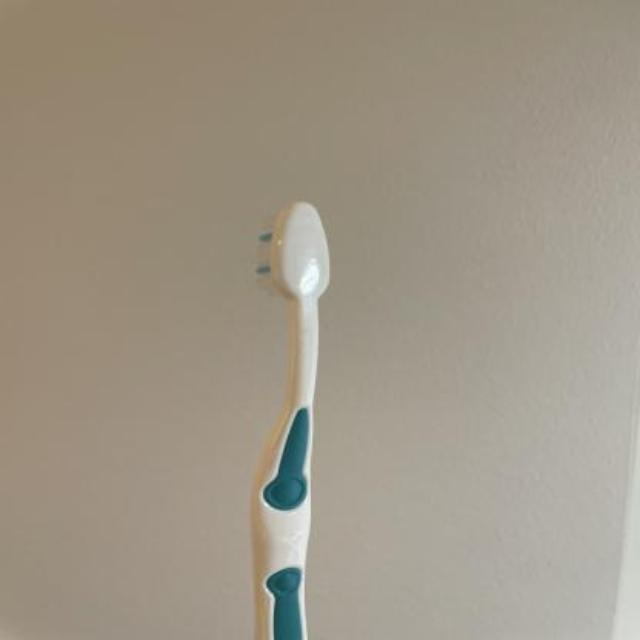toothbrush: (240, 192, 348, 640)
